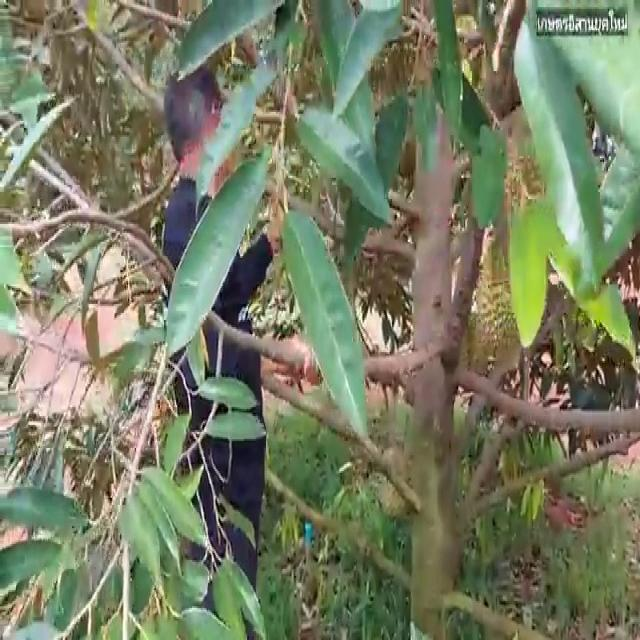durian: (466, 240, 535, 388)
